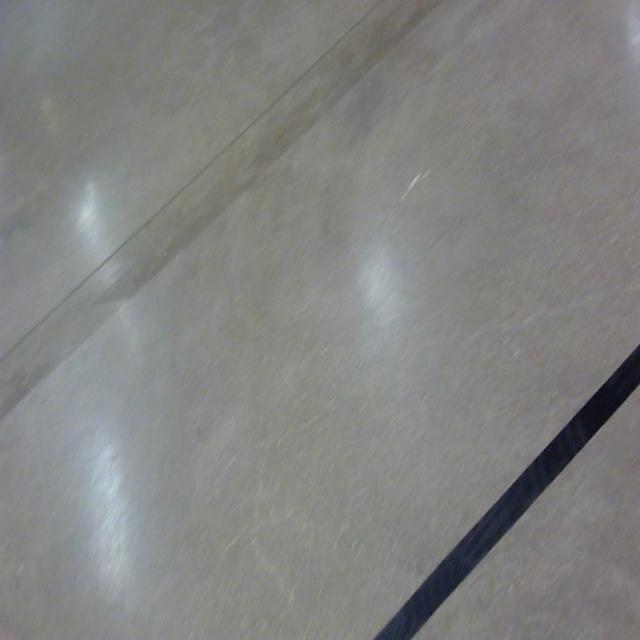tape: (328, 327, 640, 640)
